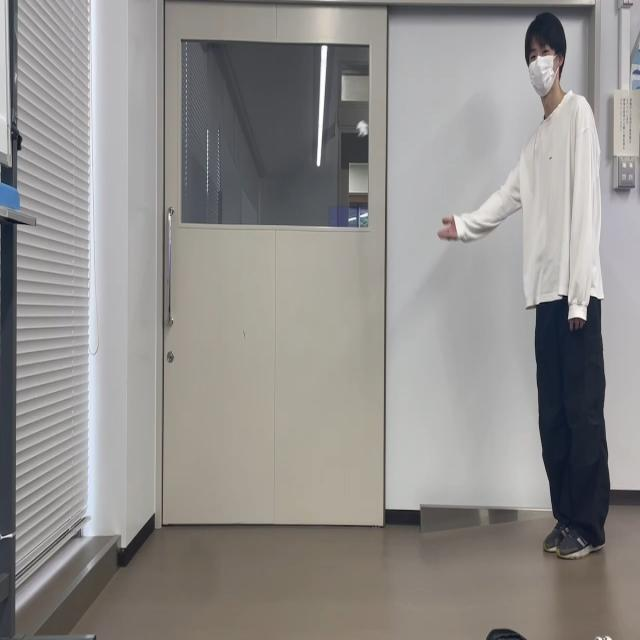paper: (355, 114, 370, 142)
